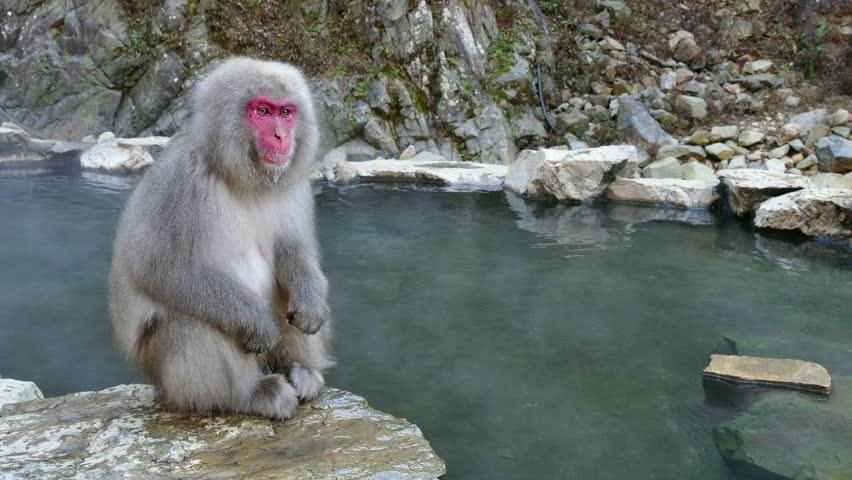monkey: (107, 57, 337, 411)
